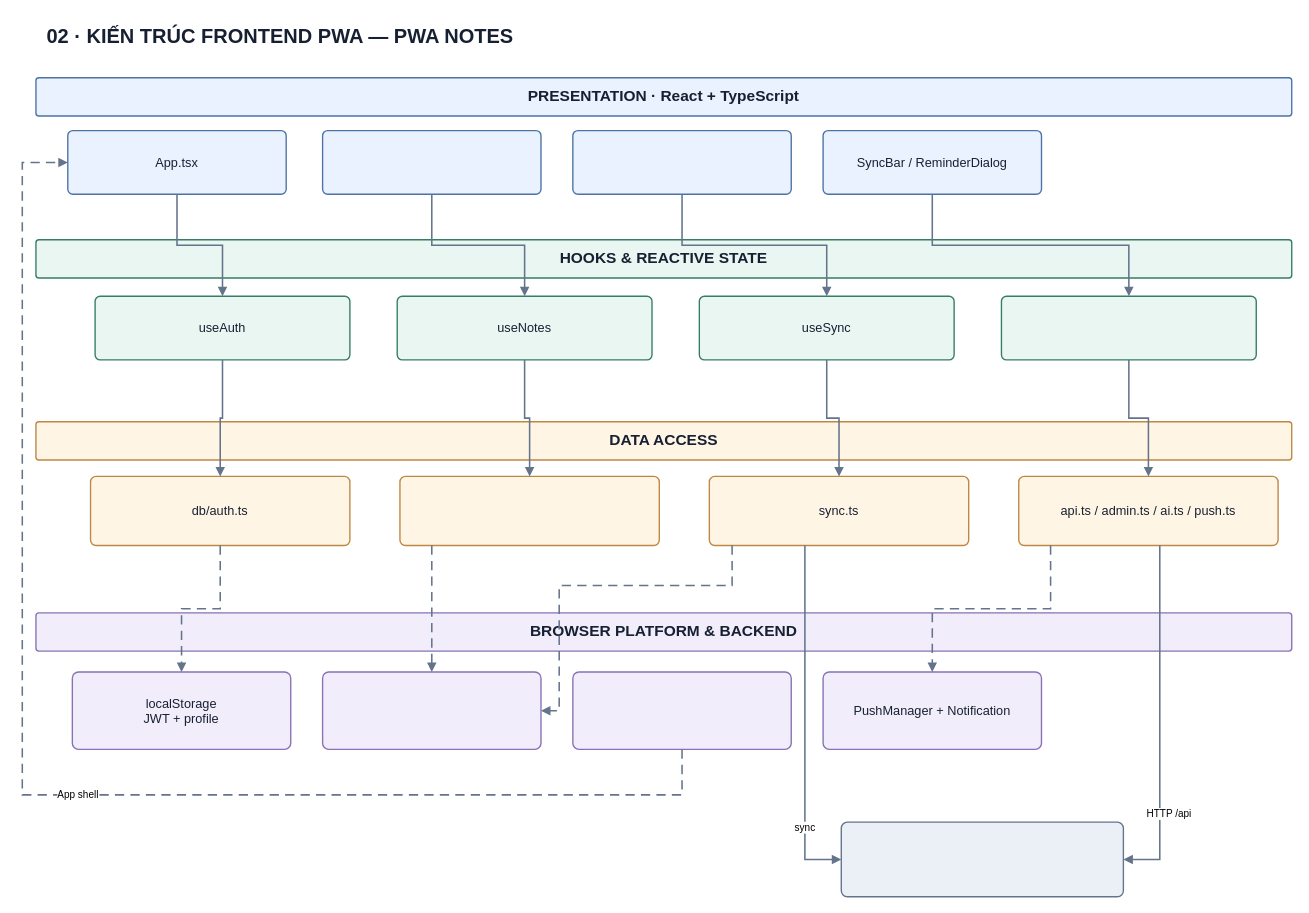
Some shapes in this 1309 by 913 pixel diagram are drawn without their labels. Here are the shapes that lost their labels. From the top down, the centre of each, then its label:
(x=431, y=162): Login / Note / Password / Email
(x=682, y=162): NoteList / Stats / Admin / Conflict
(x=1128, y=327): Dexie useLiveQuery
(x=529, y=510): database.ts (Dexie)
(x=431, y=710): IndexedDB notes / meta
(x=682, y=710): Service Worker Cache Storage
(x=982, y=859): Backend API (Express) fetch /api qua HTTPS
